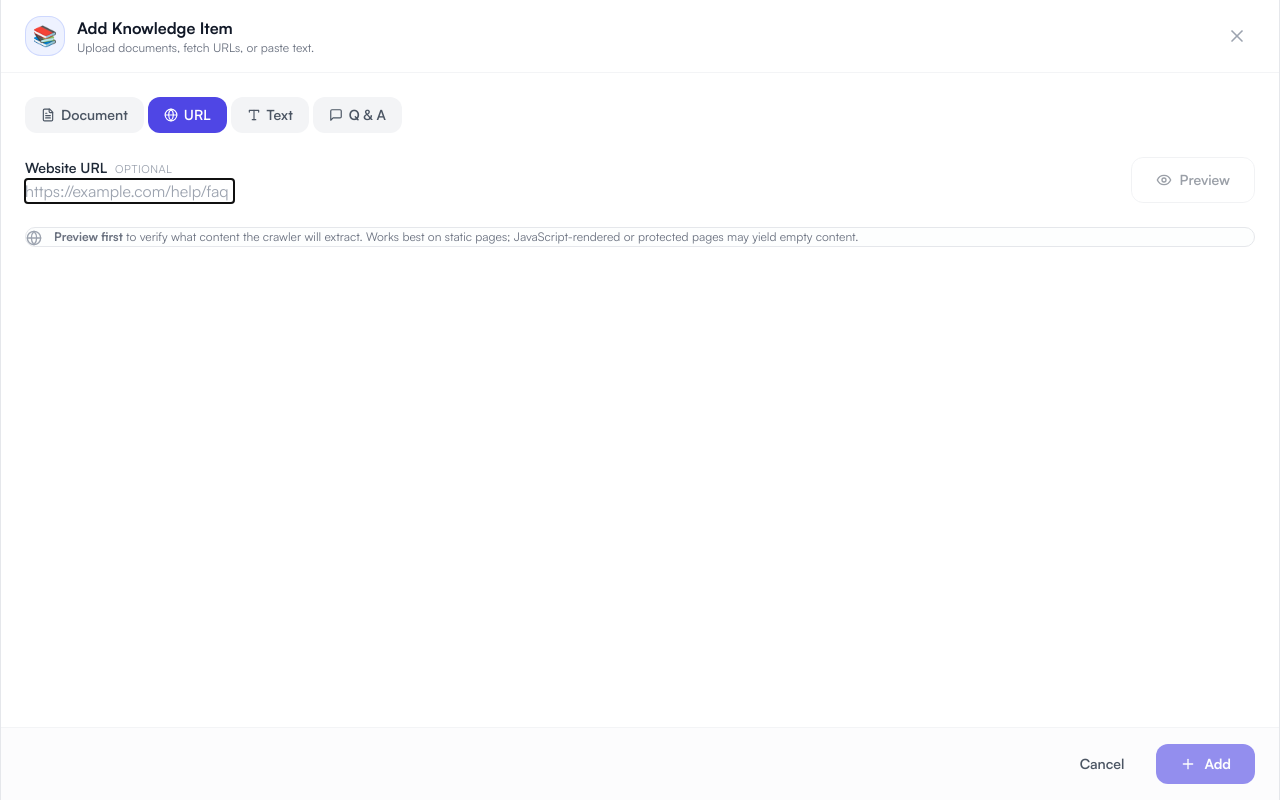
it: URL preview selection › keeps quick preview when deep preview fails
Type "https://example.com/page" into the field labelled "Website URL".
click(130, 191); type("https://example.com/page")  # box top-left (25, 179), bottom-right (234, 203)
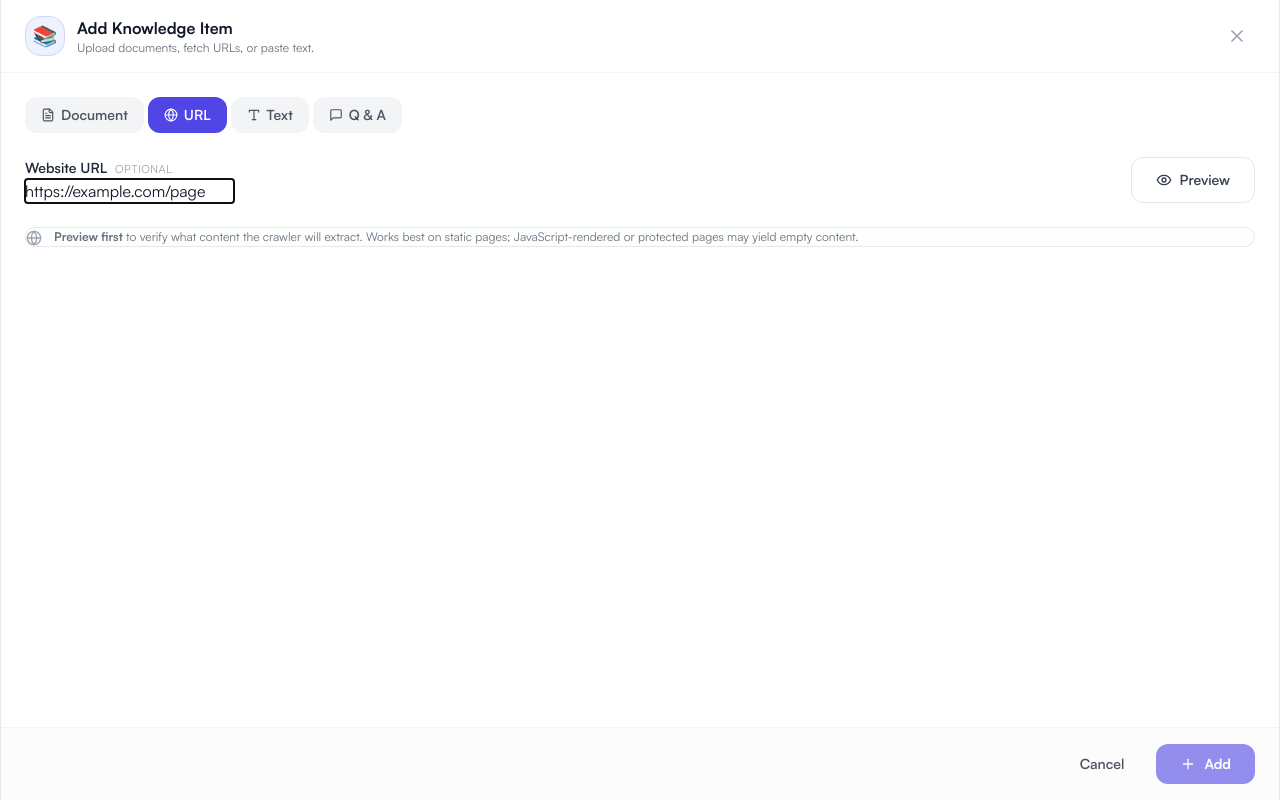
Click the button "Preview".
click(1193, 180)  # box top-left (1131, 157), bottom-right (1255, 203)
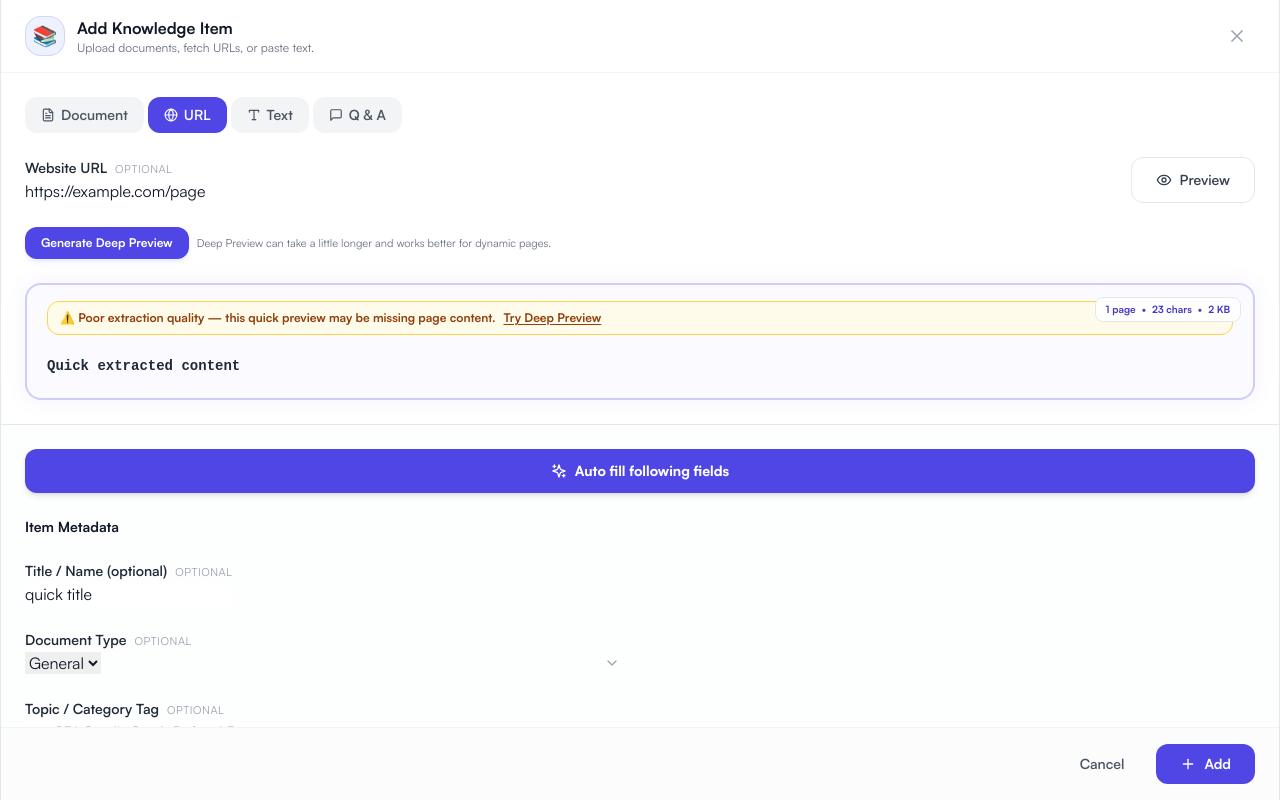
Expected: the text "Quick extracted content" is shown, top-left (47, 358), bottom-right (240, 374)
Click the button "Generate Deep Preview".
click(107, 243)  # box top-left (25, 227), bottom-right (189, 259)
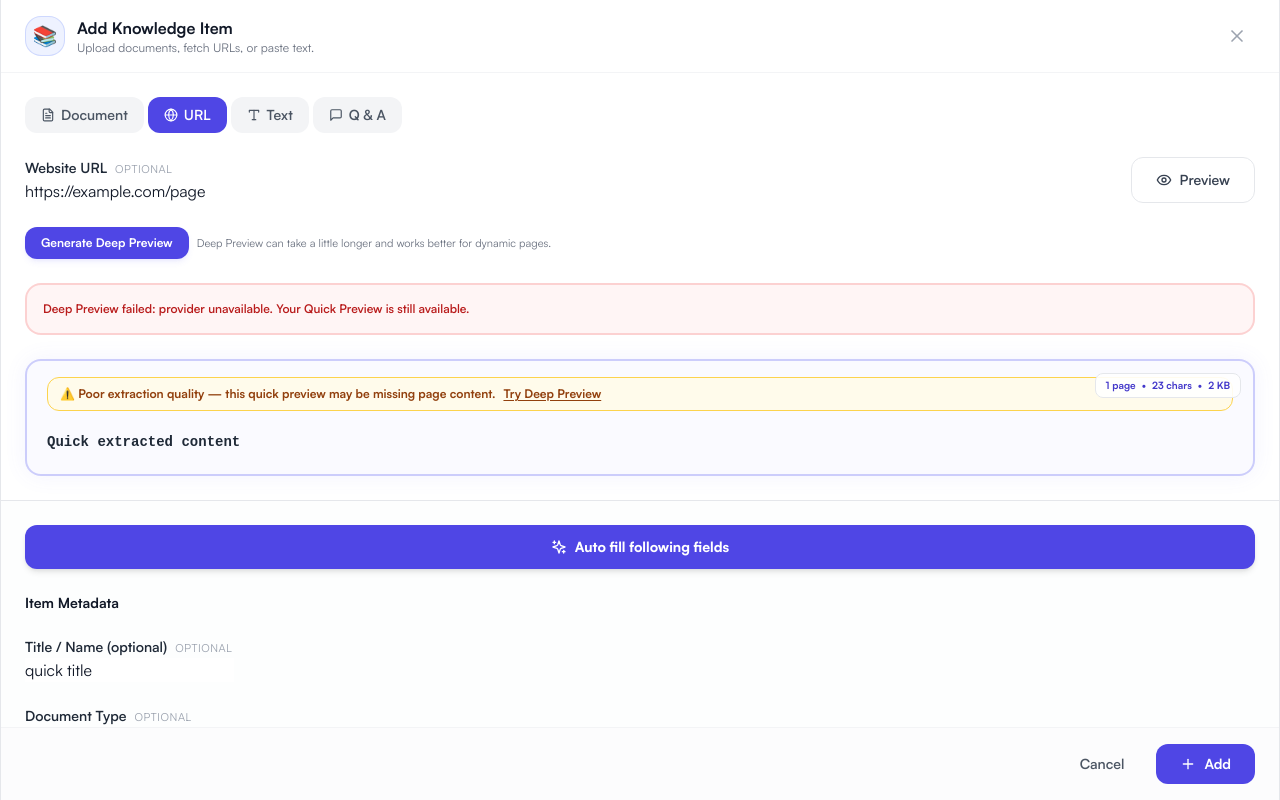
Expected: the text "Quick extracted content" is shown, top-left (47, 434), bottom-right (240, 450)
Expected: the text "provider unavailable" is shown, top-left (159, 301), bottom-right (270, 316)
